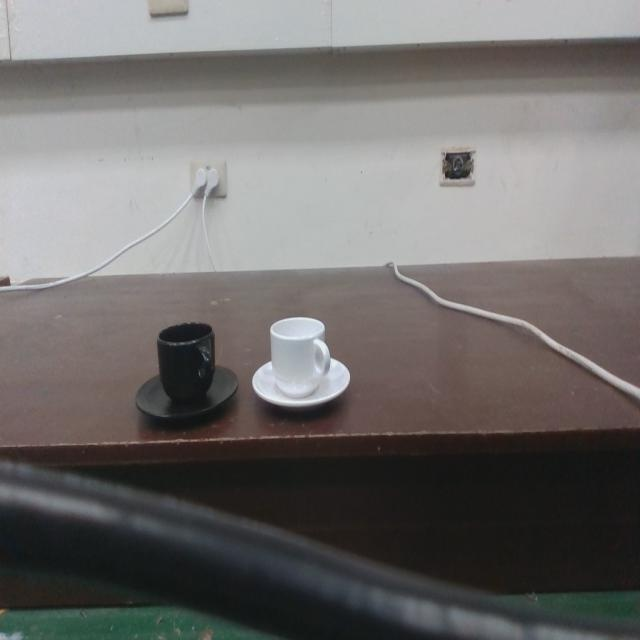black: (132, 319, 240, 426)
white: (251, 314, 352, 418)
